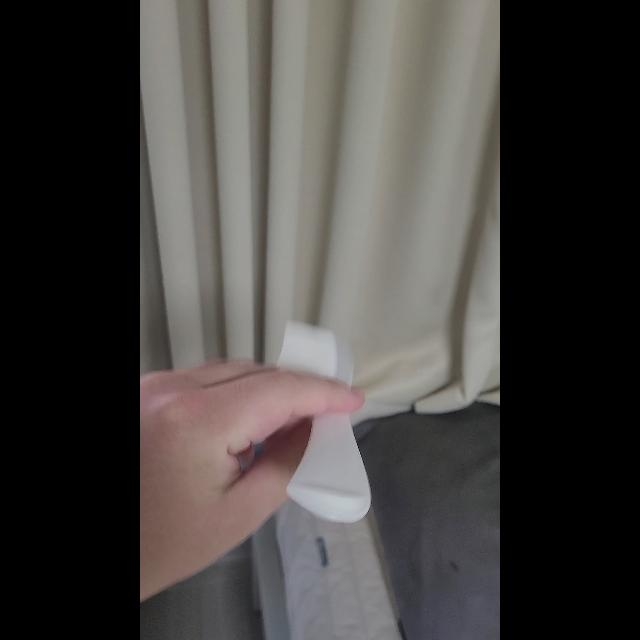COMB: (277, 320, 371, 524)
